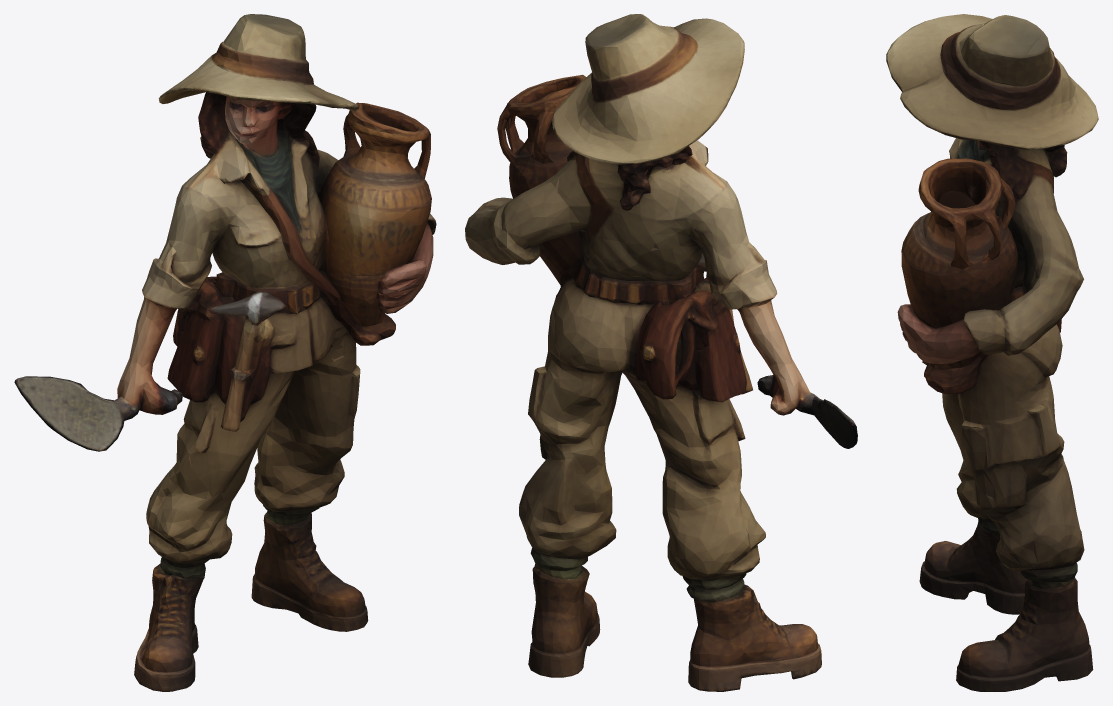
The model's file is unit_archaeologist.glb.
3 views of the same model, side by side, from view 1: azimuth 30°, elevation 25°; view 2: azimuth 150°, elevation 25°; view 3: azimuth 270°, elevation 25° (orthographic). The views are drawn at different scales.
Parts seen in each view (by area): view 1: world; view 2: world; view 3: world.
Part boxes in pixels (left/top/right/bottom): world: left=14, top=14, right=436, bottom=691; world: left=465, top=14, right=857, bottom=691; world: left=886, top=14, right=1098, bottom=691.
Size of the model in its own units: 0.6712 by 0.9996 by 0.3082.
Materials: 1 (1 with a texture image).
